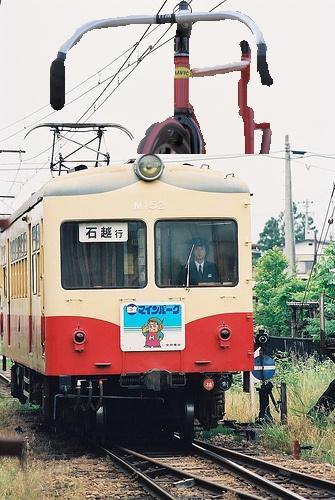tampered: (51, 1, 273, 154)
